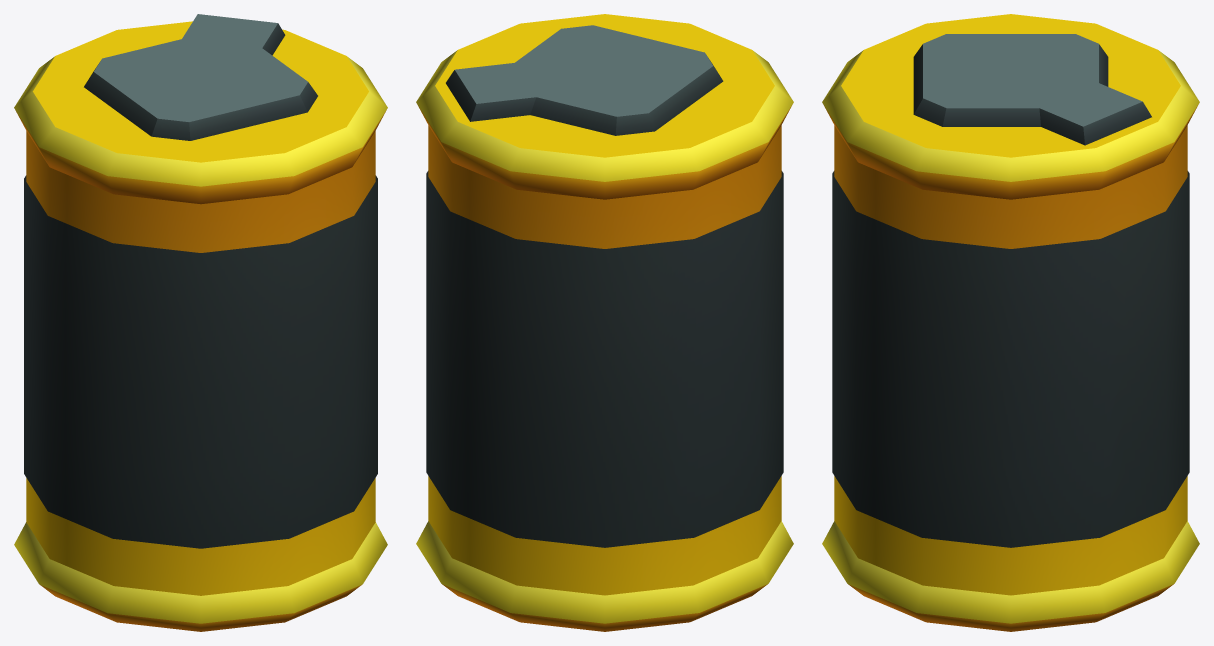
The model's file is Barrel_2A.fbx.
The picture shows the model from 3 angles, left to right: view 1: azimuth 30°, elevation 25°; view 2: azimuth 150°, elevation 25°; view 3: azimuth 270°, elevation 25°; orthographic projection.
Parts seen in each view (by area): view 1: Barrel_2A; view 2: Barrel_2A; view 3: Barrel_2A.
Part boxes in pixels (x1,y1,x2,y2): Barrel_2A: [14, 14, 387, 631]; Barrel_2A: [416, 14, 793, 631]; Barrel_2A: [822, 14, 1199, 631].
Bounding box in the file's own units: 86.64 × 124 × 86.64.
